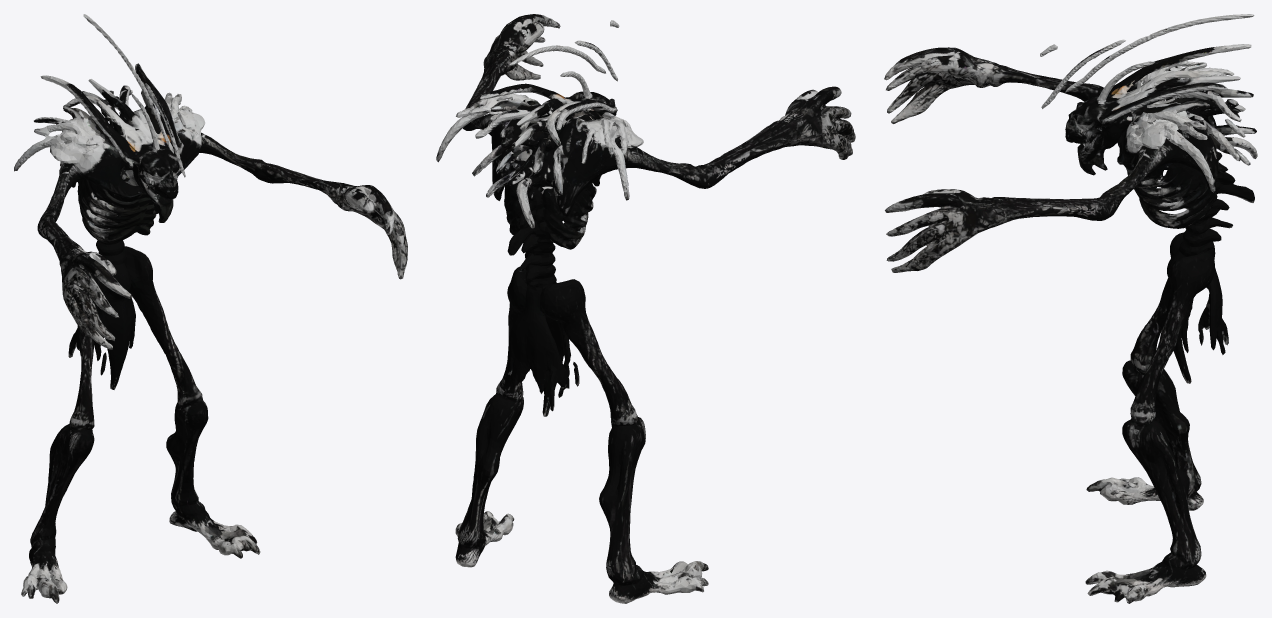
File: undead_zombie.glb
The picture shows the model from 3 angles, left to right: view 1: azimuth 30°, elevation 25°; view 2: azimuth 150°, elevation 25°; view 3: azimuth 270°, elevation 25°; orthographic projection. The views are drawn at different scales.
Parts seen in each view (by area): view 1: textured_mesh.obj; view 2: textured_mesh.obj; view 3: textured_mesh.obj.
Boxes of the visible parts, x1=… form: textured_mesh.obj: x1=14, y1=14, x2=407, y2=603; textured_mesh.obj: x1=436, y1=14, x2=855, y2=603; textured_mesh.obj: x1=884, y1=14, x2=1257, y2=603.
Size of the model in its own units: 1.34 by 1.99 by 1.26.
Materials: 1 (1 with a texture image).
